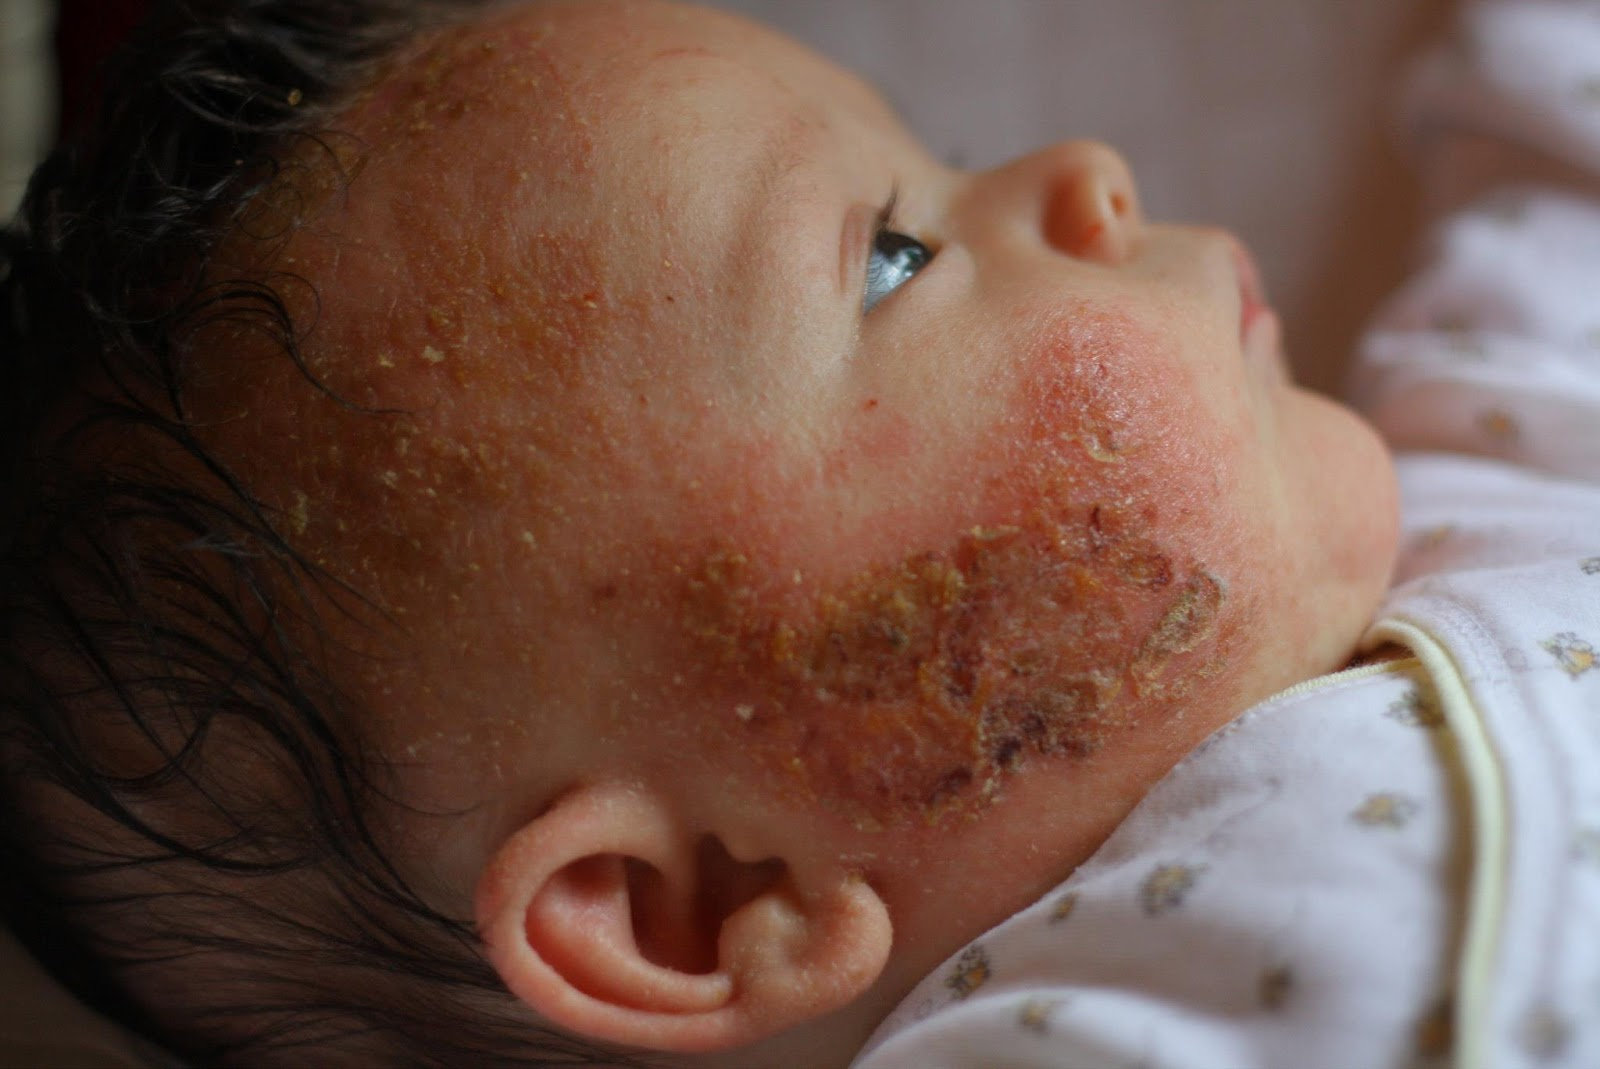Eksim: (655, 283, 1262, 897), (292, 1, 692, 855)
